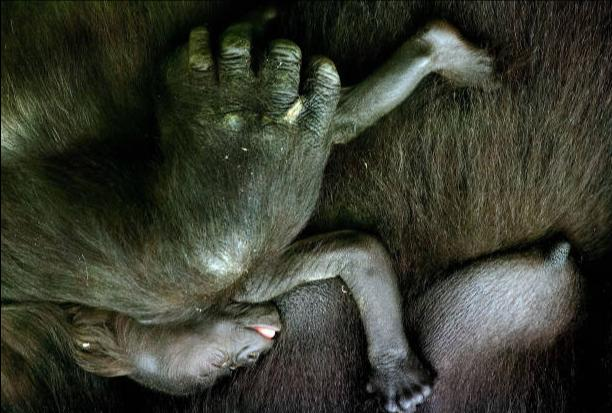gorille_Autres: (49, 249, 435, 412)
